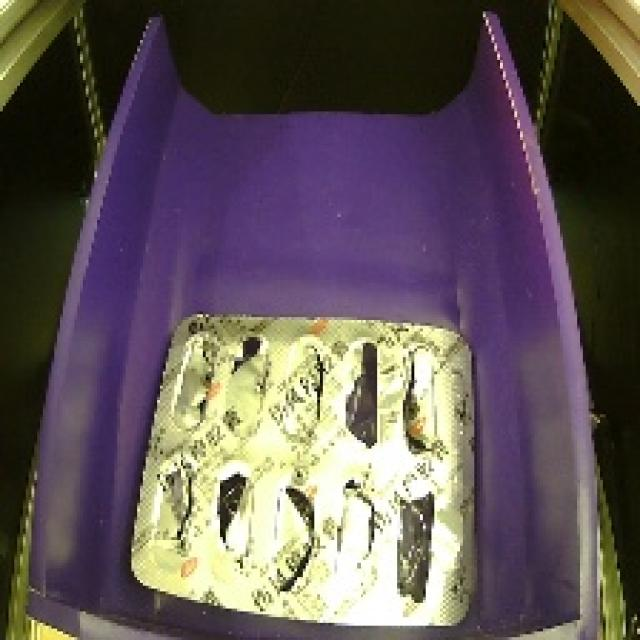med_plate: (110, 297, 493, 640)
